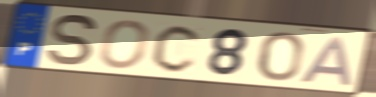8: (205, 27, 251, 79)
A: (298, 34, 355, 88)
C: (149, 22, 205, 74)
O: (97, 19, 152, 70), (256, 31, 305, 83)
S: (46, 12, 100, 69)
